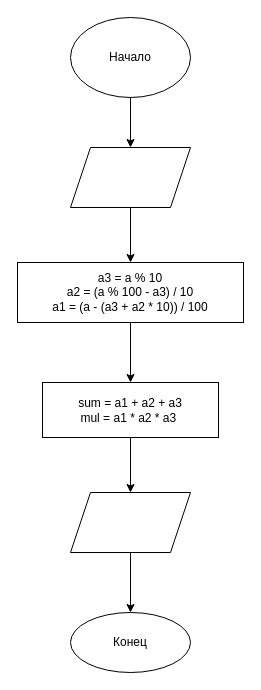
Image size: 261x690. Some labels were removed from this diagram. The centre of each missing label's shape, as x and y in pixels:
"Ввод a" belongs at pixel 130 177.
"Вывод sum, mul" belongs at pixel 130 522.
